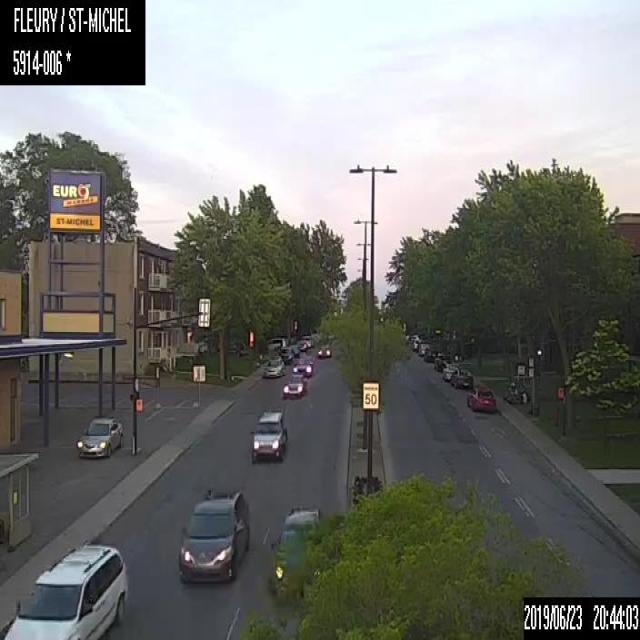vehicle: (2, 542, 127, 638), (178, 487, 249, 583), (270, 520, 320, 594), (248, 408, 287, 463), (76, 416, 122, 458), (282, 499, 320, 521), (466, 383, 494, 411), (281, 371, 306, 398), (261, 355, 284, 377), (450, 368, 472, 389), (290, 357, 312, 377), (434, 352, 450, 372), (279, 345, 294, 364), (442, 363, 457, 381), (423, 344, 438, 362), (266, 337, 285, 351), (316, 342, 332, 357), (301, 334, 312, 348), (418, 340, 428, 355), (289, 344, 299, 357), (297, 340, 307, 352)
